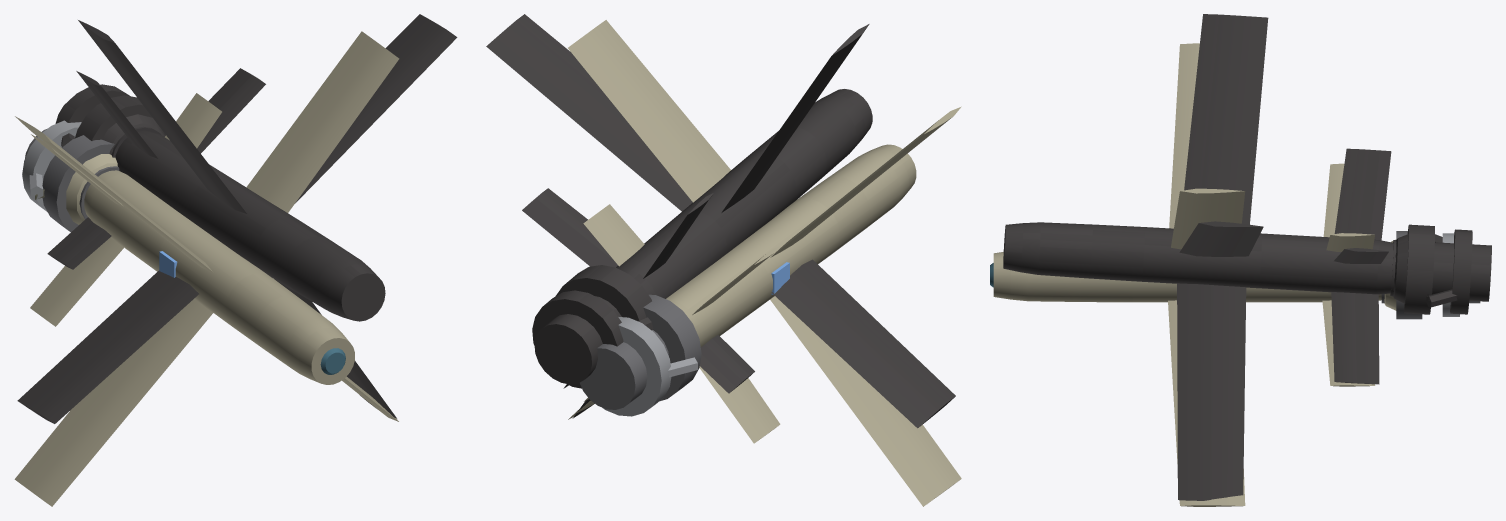
Rendered from loiterer__hx_2.glb.
3 renders of one model, left to right at view 1: azimuth 30°, elevation 25°; view 2: azimuth 150°, elevation 25°; view 3: azimuth 270°, elevation 25°, orthographic. The views are drawn at different scales.
Visible parts, largest first — view 1: Fuselage_Mesh, Wreck, Propeller_Mesh; view 2: Wreck, Fuselage_Mesh, Propeller_Mesh; view 3: Wreck, Fuselage_Mesh, Propeller_Mesh.
Part boxes in pixels (left/top/right/bottom): Fuselage_Mesh: left=14, top=31, right=399, bottom=506; Wreck: left=17, top=14, right=457, bottom=423; Propeller_Mesh: left=22, top=120, right=119, bottom=232; Wreck: left=486, top=14, right=955, bottom=428; Fuselage_Mesh: left=568, top=20, right=961, bottom=506; Propeller_Mesh: left=580, top=294, right=701, bottom=416; Wreck: left=1003, top=14, right=1491, bottom=500; Fuselage_Mesh: left=990, top=43, right=1381, bottom=506; Propeller_Mesh: left=1381, top=231, right=1480, bottom=319.
Size of what is drawn, in the model's own units: 1.45 by 1.45 by 1.73.
